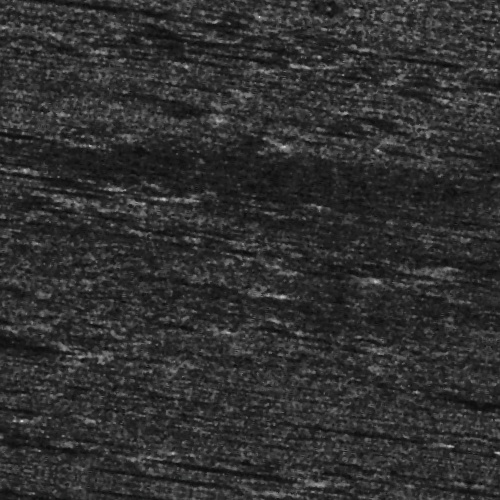object: (241, 285, 314, 292), (23, 164, 86, 169), (83, 202, 124, 207)
shadow: (172, 285, 278, 292), (0, 202, 103, 207), (0, 164, 55, 169)
